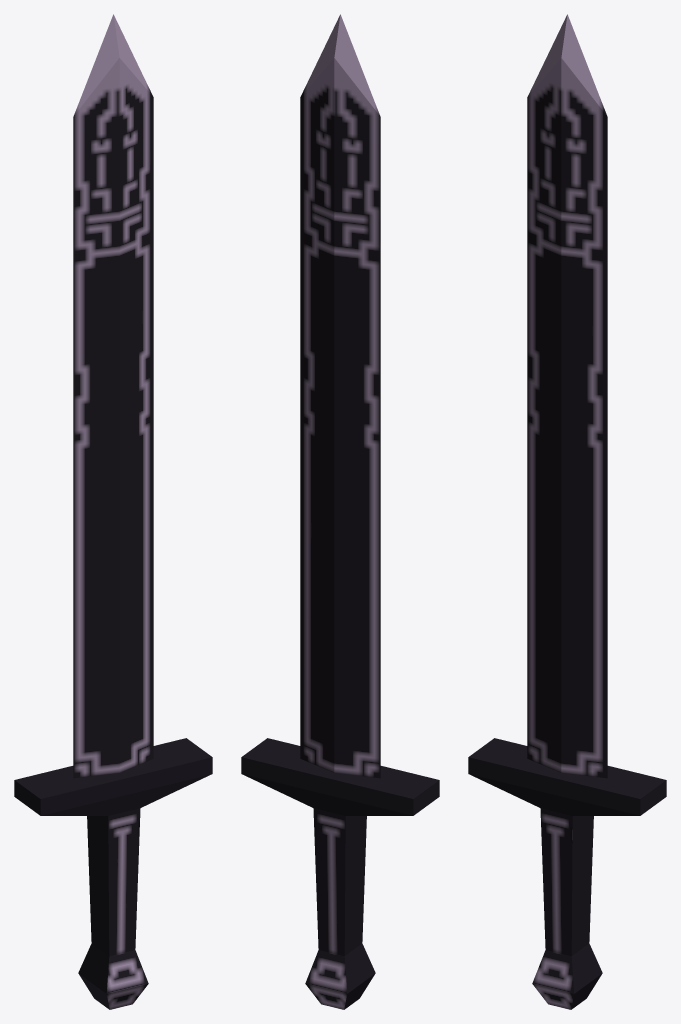
Rendered from sword.fbx.
3 renders of one model, left to right at view 1: azimuth 30°, elevation 25°; view 2: azimuth 150°, elevation 25°; view 3: azimuth 330°, elevation 25°, orthographic.
Parts seen in each view (by area): view 1: Cube; view 2: Cube; view 3: Cube.
Part boxes in pixels (bbox=[...]): Cube: bbox=[14, 14, 212, 1009]; Cube: bbox=[241, 14, 439, 1009]; Cube: bbox=[468, 14, 666, 1009].
Bounding box in the file's own units: 760 × 4166 × 218.
